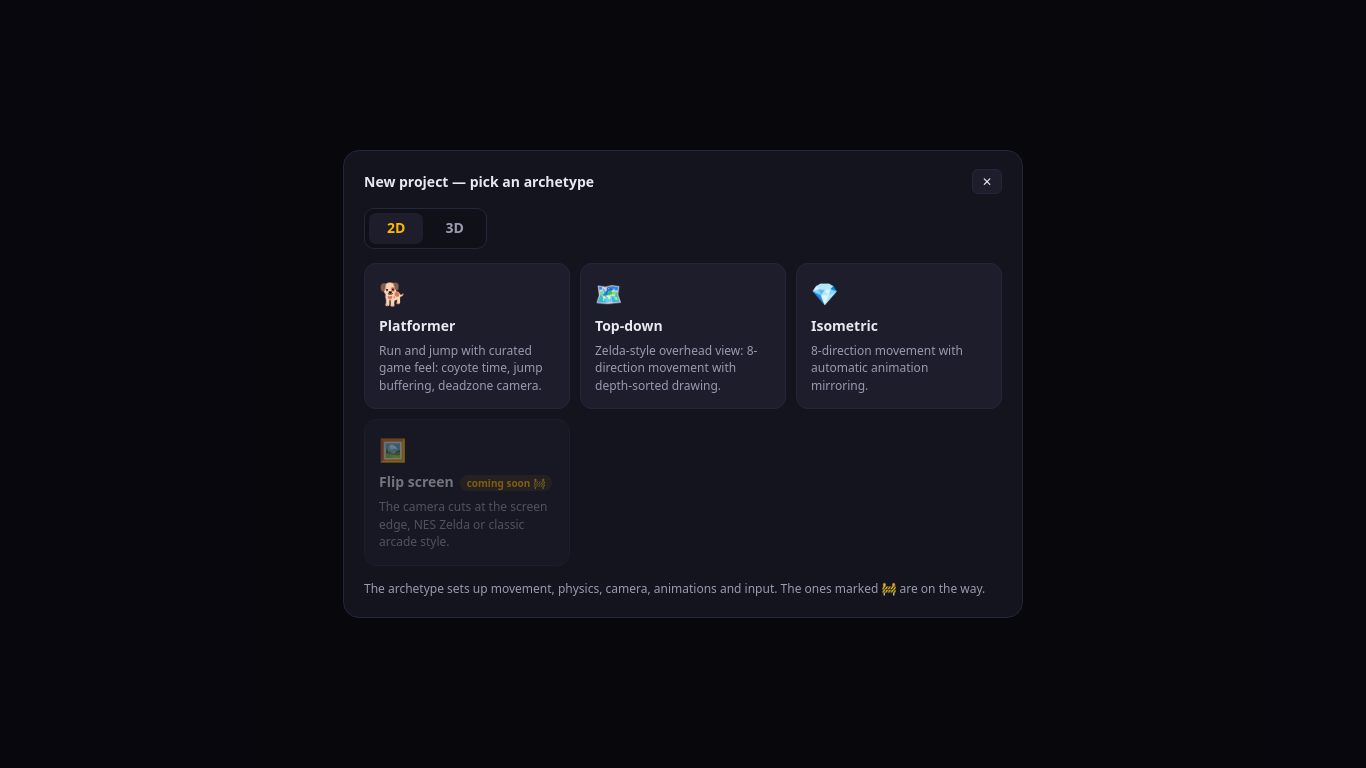
Test: ArchetypePicker characterization: the name step › goes back to the archetypes
Step 1. Click the button "Platformer" → {"x": 467, "y": 336}, box [364, 263, 570, 409]
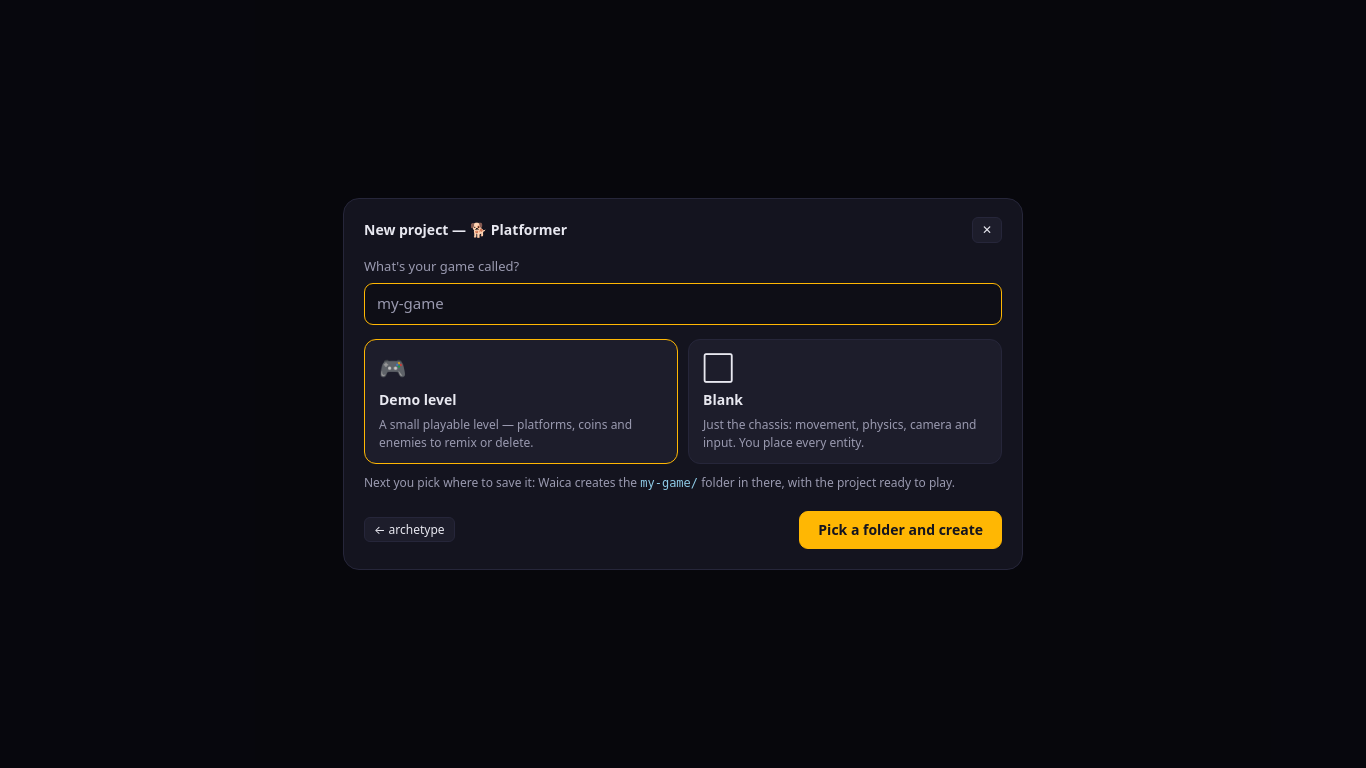
Step 2. Click the button "← archetype" → {"x": 409, "y": 530}, box [364, 517, 455, 542]
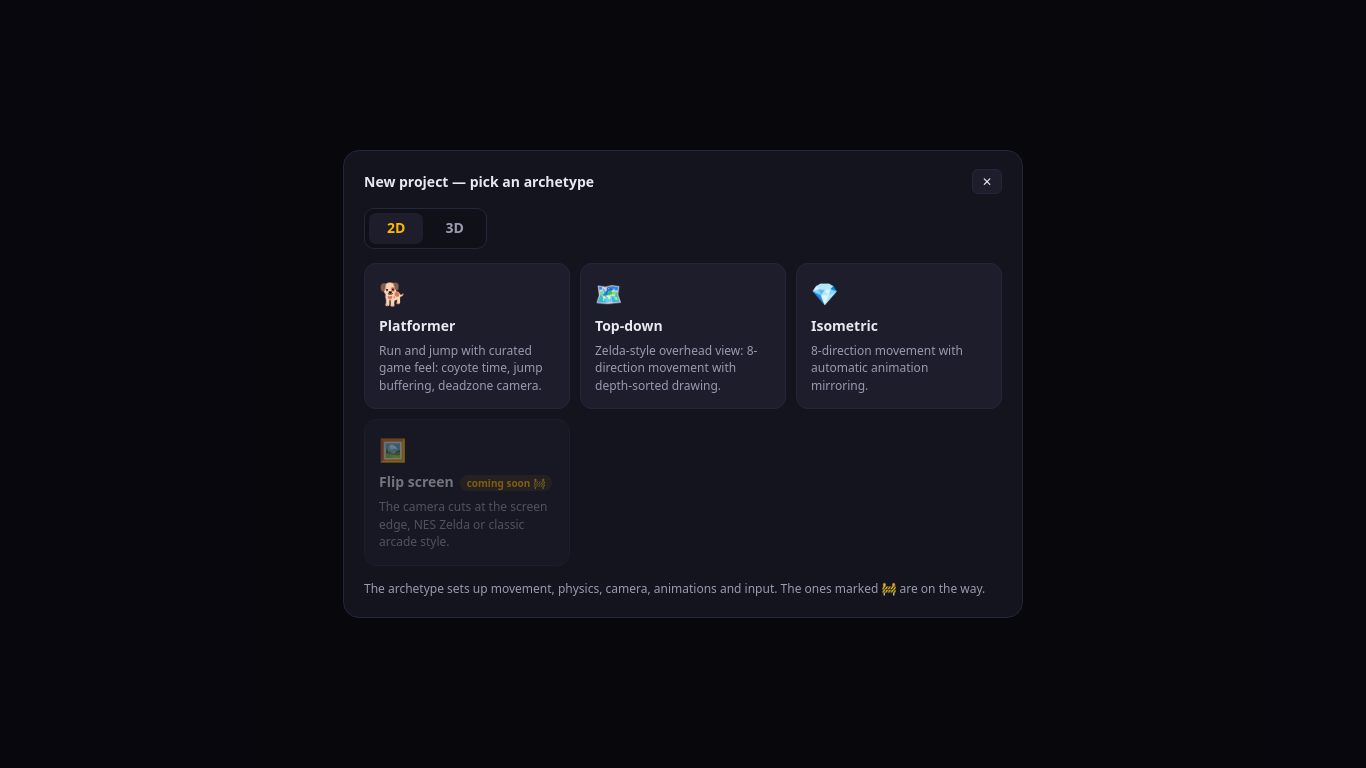
Expected: the text "New project — pick an archetype" is shown, [364, 172, 594, 192]
